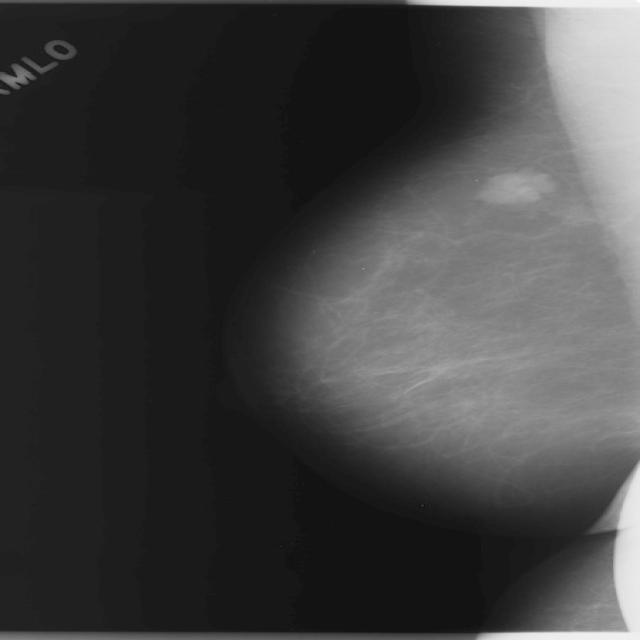tumour: (478, 169, 553, 205)
